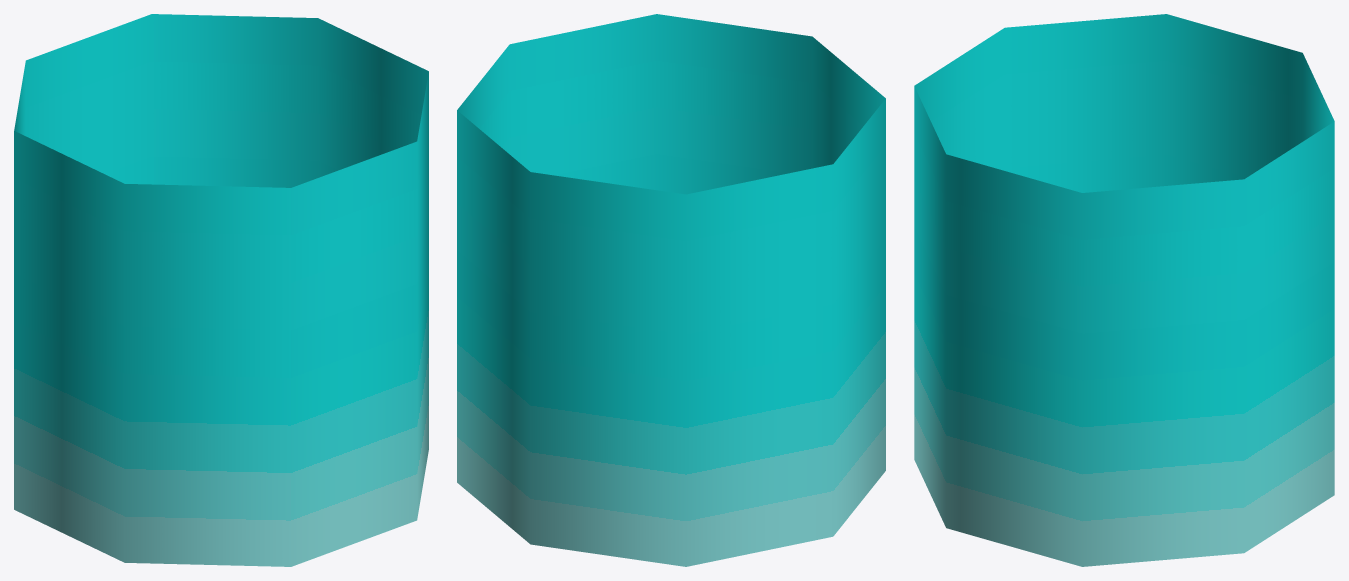
The model's file is Skybox.fbx.
3 views of the same model, side by side, from view 1: azimuth 30°, elevation 25°; view 2: azimuth 150°, elevation 25°; view 3: azimuth 270°, elevation 25° (orthographic).
Parts seen in each view (by area): view 1: SkyCylinder; view 2: SkyCylinder; view 3: SkyCylinder.
Boxes of the visible parts, x1,y1,x2,y2 form: SkyCylinder: (14, 14, 428, 566); SkyCylinder: (457, 14, 885, 566); SkyCylinder: (914, 14, 1334, 566).
Bounding box in the file's own units: 21.17 × 20.61 × 21.01.
1 material, 1 textured.
